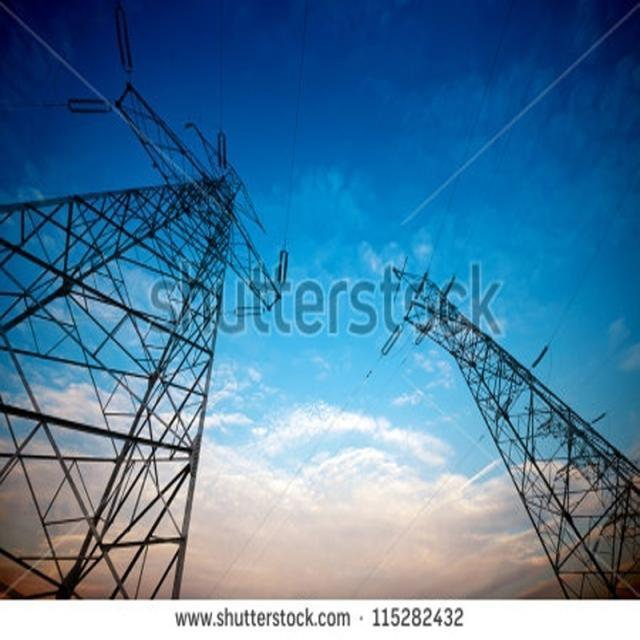non-critical vegetation: (2, 33, 266, 610), (391, 232, 635, 592)
